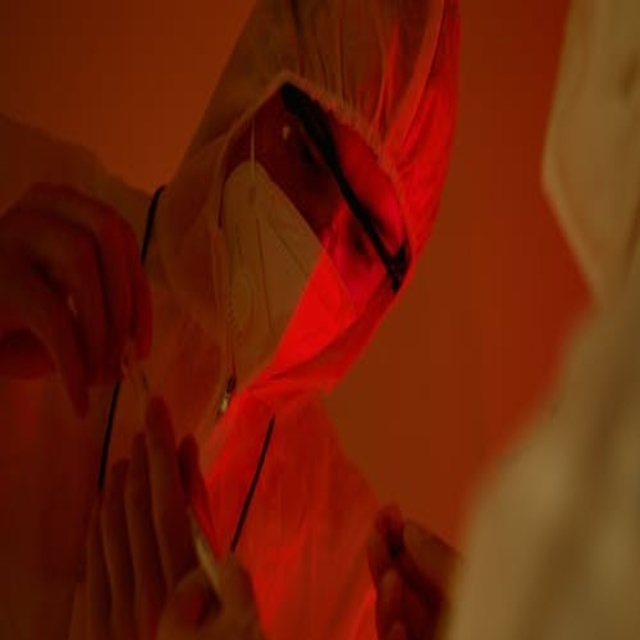Gafas: (269, 75, 410, 326)
Mascara: (214, 132, 355, 408)
Sin_guantes: (4, 169, 155, 403), (82, 401, 215, 633), (357, 483, 452, 635)
